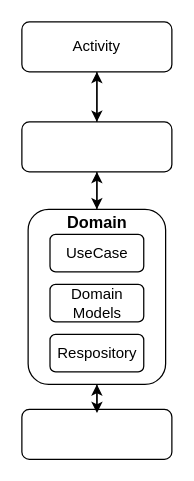
Some shapes in this 194 by 481 pixel diagram are drawn without their labels. Each missing label, with the centre of its shape:
"API Service (Retrofit)" goes at pixel 96 433.
"ViewModel" goes at pixel 96 146.
